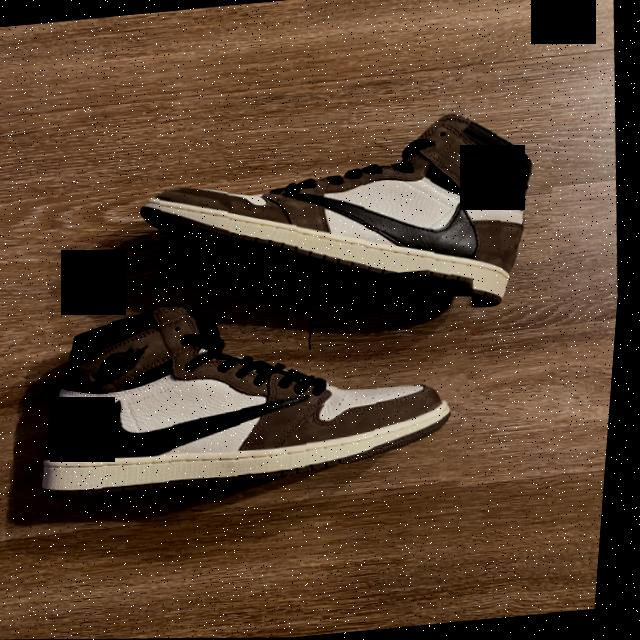shoe: (3, 266, 498, 536), (112, 93, 570, 344)
